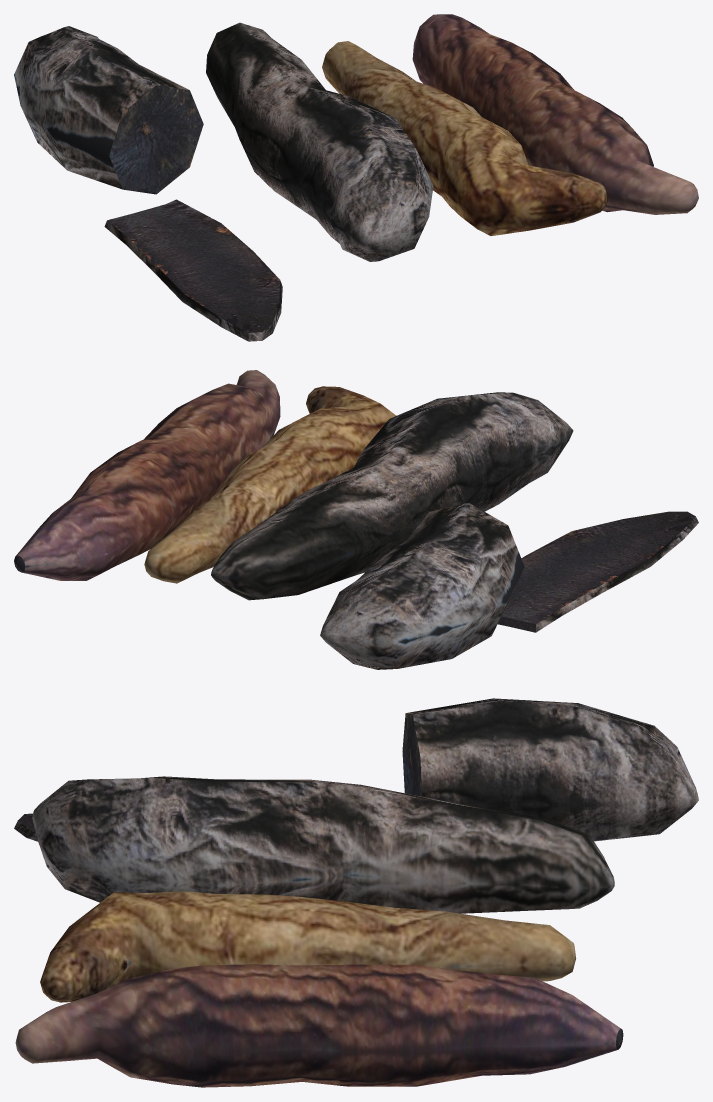
Rendered from xuanshen.FBX.
3 views of the same model, one above another, from view 1: azimuth 30°, elevation 25°; view 2: azimuth 150°, elevation 25°; view 3: azimuth 270°, elevation 25° (orthographic). The views are drawn at different scales.
Visible parts, largest first — view 1: Cylinder003, Cylinder001, Cylinder004, Cylinder002, Line001; view 2: Cylinder003, Cylinder001, Cylinder004, Cylinder002, Line001; view 3: Cylinder003, Cylinder001, Cylinder002, Cylinder004.
Boxes of the visible parts, box(x1,y1,x2,y2) form: Cylinder003: box(206, 22, 433, 261); Cylinder001: box(412, 14, 698, 214); Cylinder004: box(14, 26, 203, 194); Cylinder002: box(322, 41, 607, 235); Line001: box(104, 199, 282, 341); Cylinder003: box(211, 392, 573, 600); Cylinder001: box(14, 370, 280, 580); Cylinder004: box(320, 502, 524, 669); Cylinder002: box(144, 386, 396, 583); Line001: box(498, 511, 698, 632); Cylinder003: box(32, 776, 614, 913); Cylinder001: box(15, 964, 623, 1087); Cylinder002: box(40, 891, 576, 1002); Cylinder004: box(402, 698, 698, 841).
Size of the model in its own units: 101 by 28.2 by 106.
Materials: 1 (1 with a texture image).
